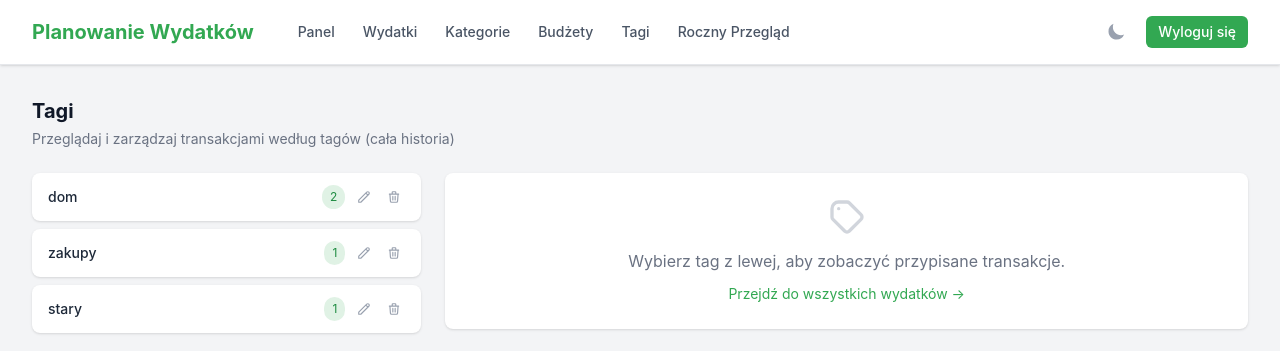
Test: selecting a tag › shows the tagged transactions with their date and category
The image size is (1280, 351).
Click the button with aria-label "Pokaż transakcje z tagiem dom": (63, 196) [48,187,314,207]
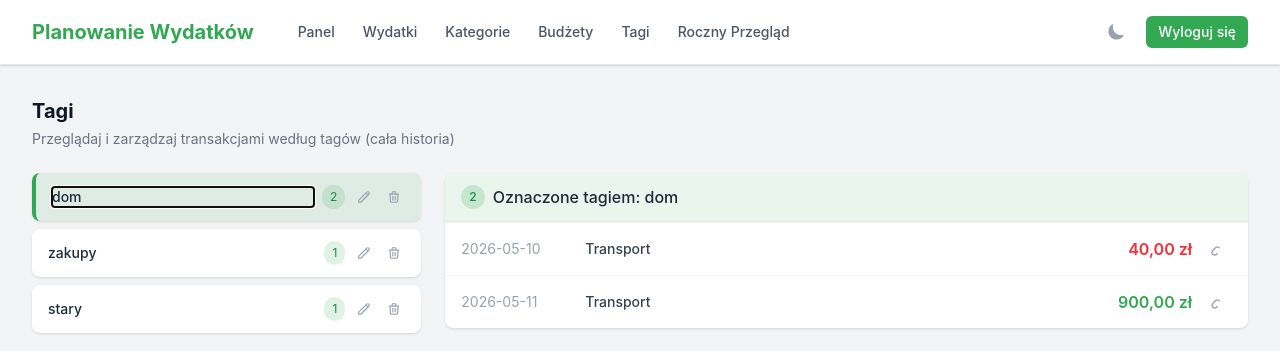
Check: the heading "2 Oznaczone tagiem: dom" is shown, box [461,185,678,209]
Check: the text "2026-05-10" is shown, box [461,240,540,257]
Check: the text "2026-05-11" is shown, box [461,293,537,310]
